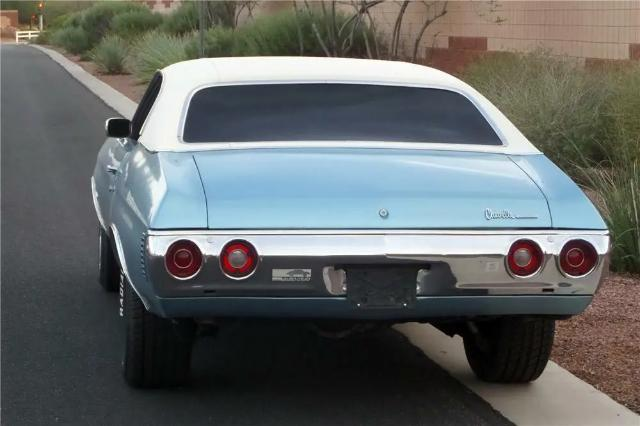chevelle-1972: (90, 56, 612, 388)
